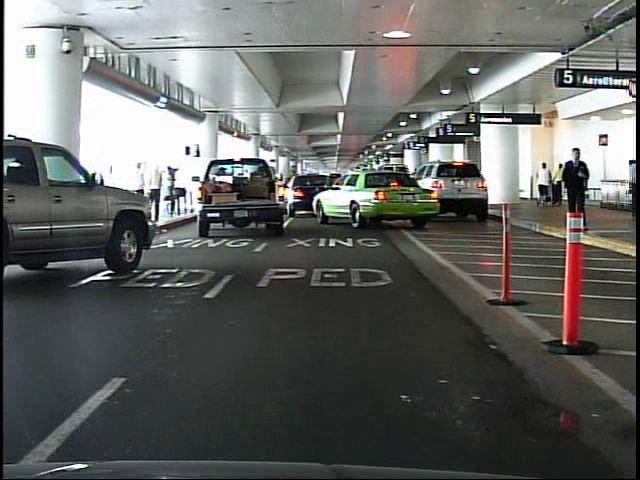person: (563, 142, 596, 238), (165, 164, 184, 223), (537, 160, 552, 207)
